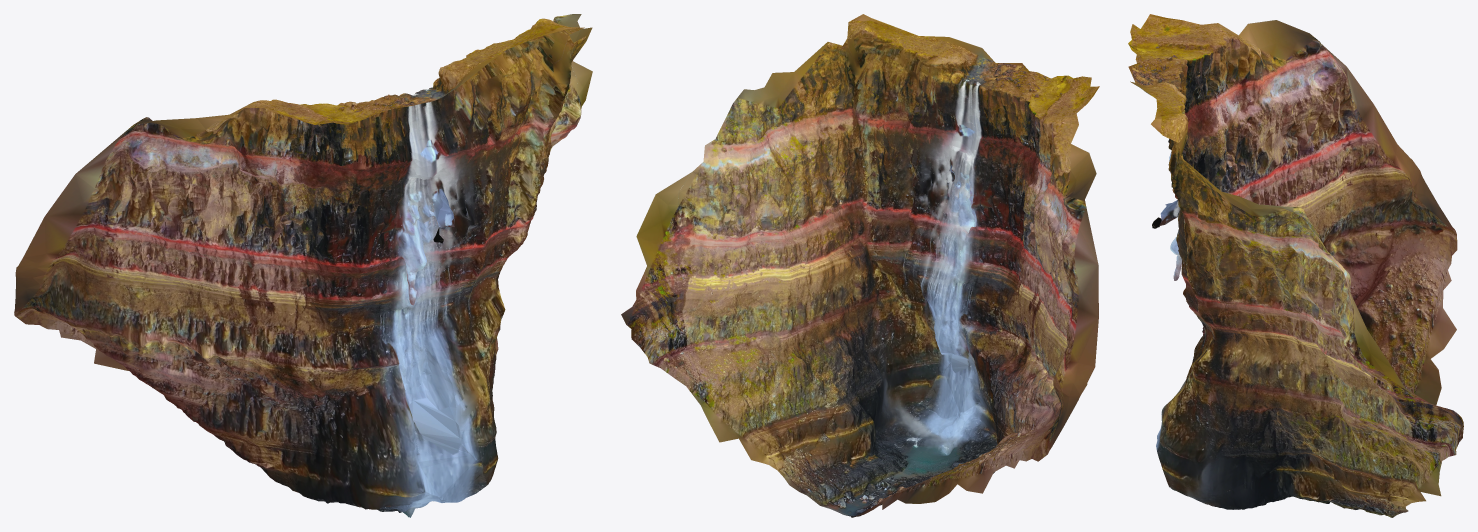
The model's file is sf-hengifoss-waterfall-f52284.glb.
The picture shows the model from 3 angles, left to right: view 1: azimuth 30°, elevation 25°; view 2: azimuth 150°, elevation 25°; view 3: azimuth 270°, elevation 25°; orthographic projection. The views are drawn at different scales.
Visible parts, largest first — view 1: Model_material0_0, Model_material1_0, Model_material2_0; view 2: Model_material2_0, Model_material1_0, Model_material0_0; view 3: Model_material1_0, Model_material2_0, Model_material0_0.
Part boxes in pixels (x1=…): Model_material0_0: x1=133, y1=18, x2=584, y2=517; Model_material1_0: x1=14, y1=66, x2=578, y2=502; Model_material2_0: x1=247, y1=14, x2=592, y2=303; Model_material2_0: x1=621, y1=39, x2=1099, y2=464; Model_material1_0: x1=678, y1=113, x2=1098, y2=509; Model_material0_0: x1=739, y1=14, x2=1060, y2=517; Model_material1_0: x1=1152, y1=20, x2=1457, y2=504; Model_material2_0: x1=1128, y1=14, x2=1463, y2=502; Model_material0_0: x1=1130, y1=81, x2=1410, y2=517.
Bounding box in the file's own units: 25.02 × 20.73 × 14.43.
3 materials, 3 textured.
